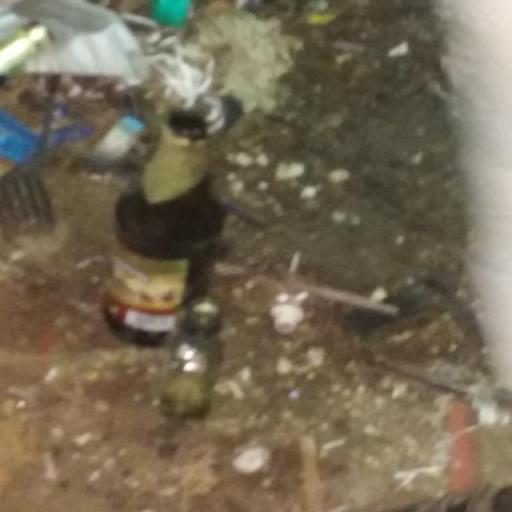glass: (87, 95, 237, 375)
